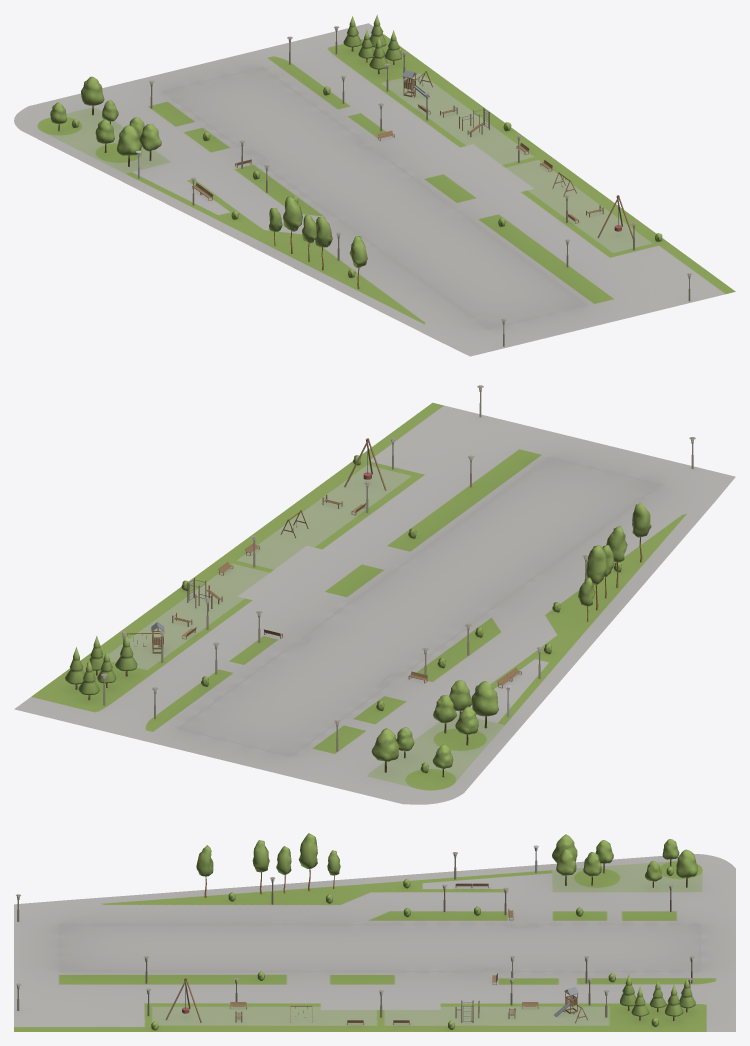
The model's file is House_02_Environment.glb.
The picture shows the model from 3 angles, top to bottom: view 1: azimuth 30°, elevation 25°; view 2: azimuth 150°, elevation 25°; view 3: azimuth 270°, elevation 25°; orthographic projection. The views are drawn at different scales.
Parts seen in each view (by area): view 1: Empty.009; view 2: Empty.009; view 3: Empty.009.
Part boxes in pixels (<box>): Empty.009: <box>14,14,735,356</box>; Empty.009: <box>14,385,735,804</box>; Empty.009: <box>14,833,735,1031</box>.
Size of the model in its own units: 57.16 by 9.33 by 97.88.
Materials: 1 (1 with a texture image).
